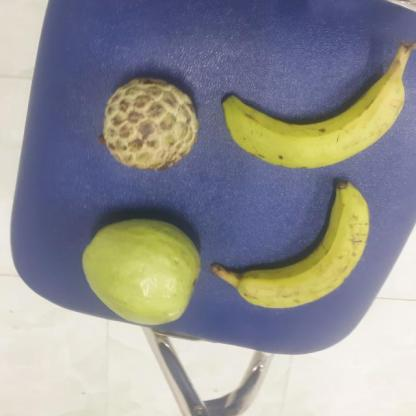annona: (92, 77, 198, 170)
banana: (213, 54, 405, 166), (205, 179, 368, 308)
guava: (80, 220, 202, 330)
